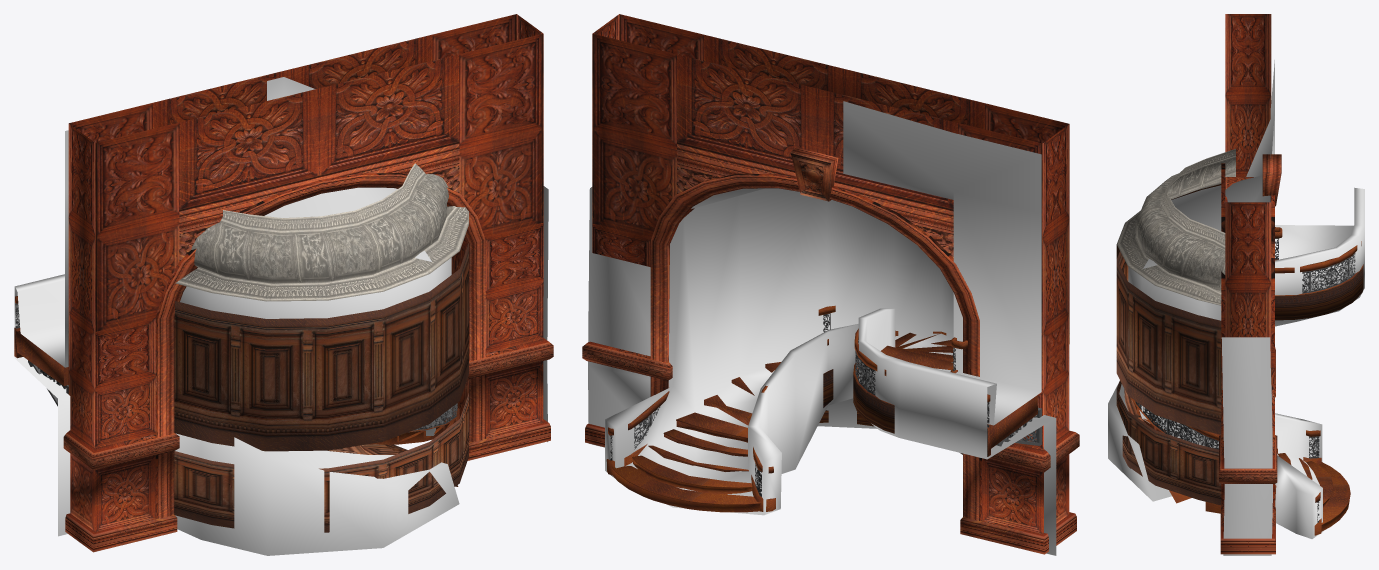
Rendered from Staircase_CurvyTest.fbx.
3 renders of one model, left to right at view 1: azimuth 30°, elevation 25°; view 2: azimuth 150°, elevation 25°; view 3: azimuth 270°, elevation 25°, orthographic. The views are drawn at different scales.
Visible parts, largest first — view 1: Staircase_Curvy.001, Stairs_Curvy_Collmesh; view 2: Stairs_Curvy_Collmesh, Staircase_Curvy.001; view 3: Staircase_Curvy.001, Stairs_Curvy_Collmesh.
Part boxes in pixels (x1=…): Staircase_Curvy.001: x1=14, y1=14, x2=553, y2=552; Stairs_Curvy_Collmesh: x1=14, y1=77, x2=548, y2=555; Stairs_Curvy_Collmesh: x1=588, y1=101, x2=1056, y2=555; Staircase_Curvy.001: x1=582, y1=14, x2=1079, y2=554; Staircase_Curvy.001: x1=1116, y1=14, x2=1363, y2=554; Stairs_Curvy_Collmesh: x1=1108, y1=60, x2=1364, y2=555.
Size of the model in its own units: 1403 by 1175 by 777.
